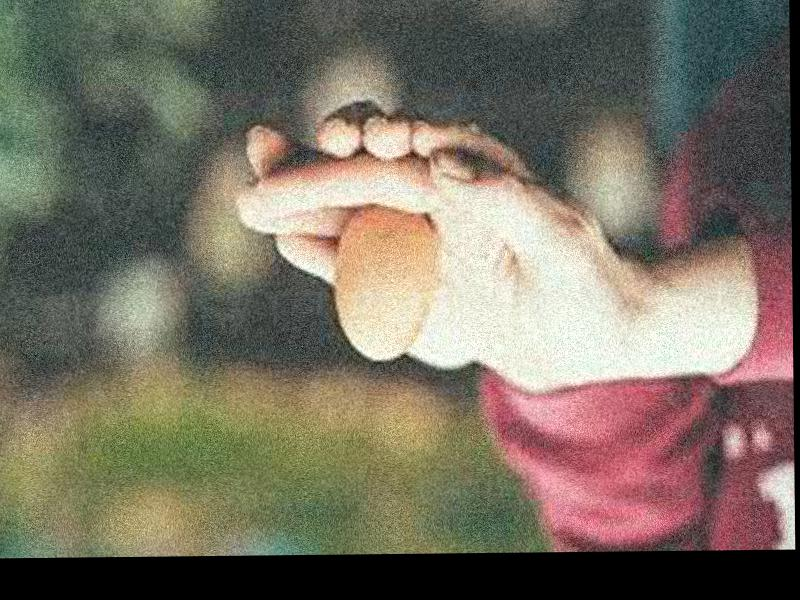Eggs: (335, 208, 438, 360)
